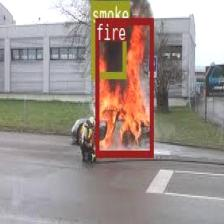fire: (95, 18, 152, 155)
smoke: (91, 0, 126, 77)
